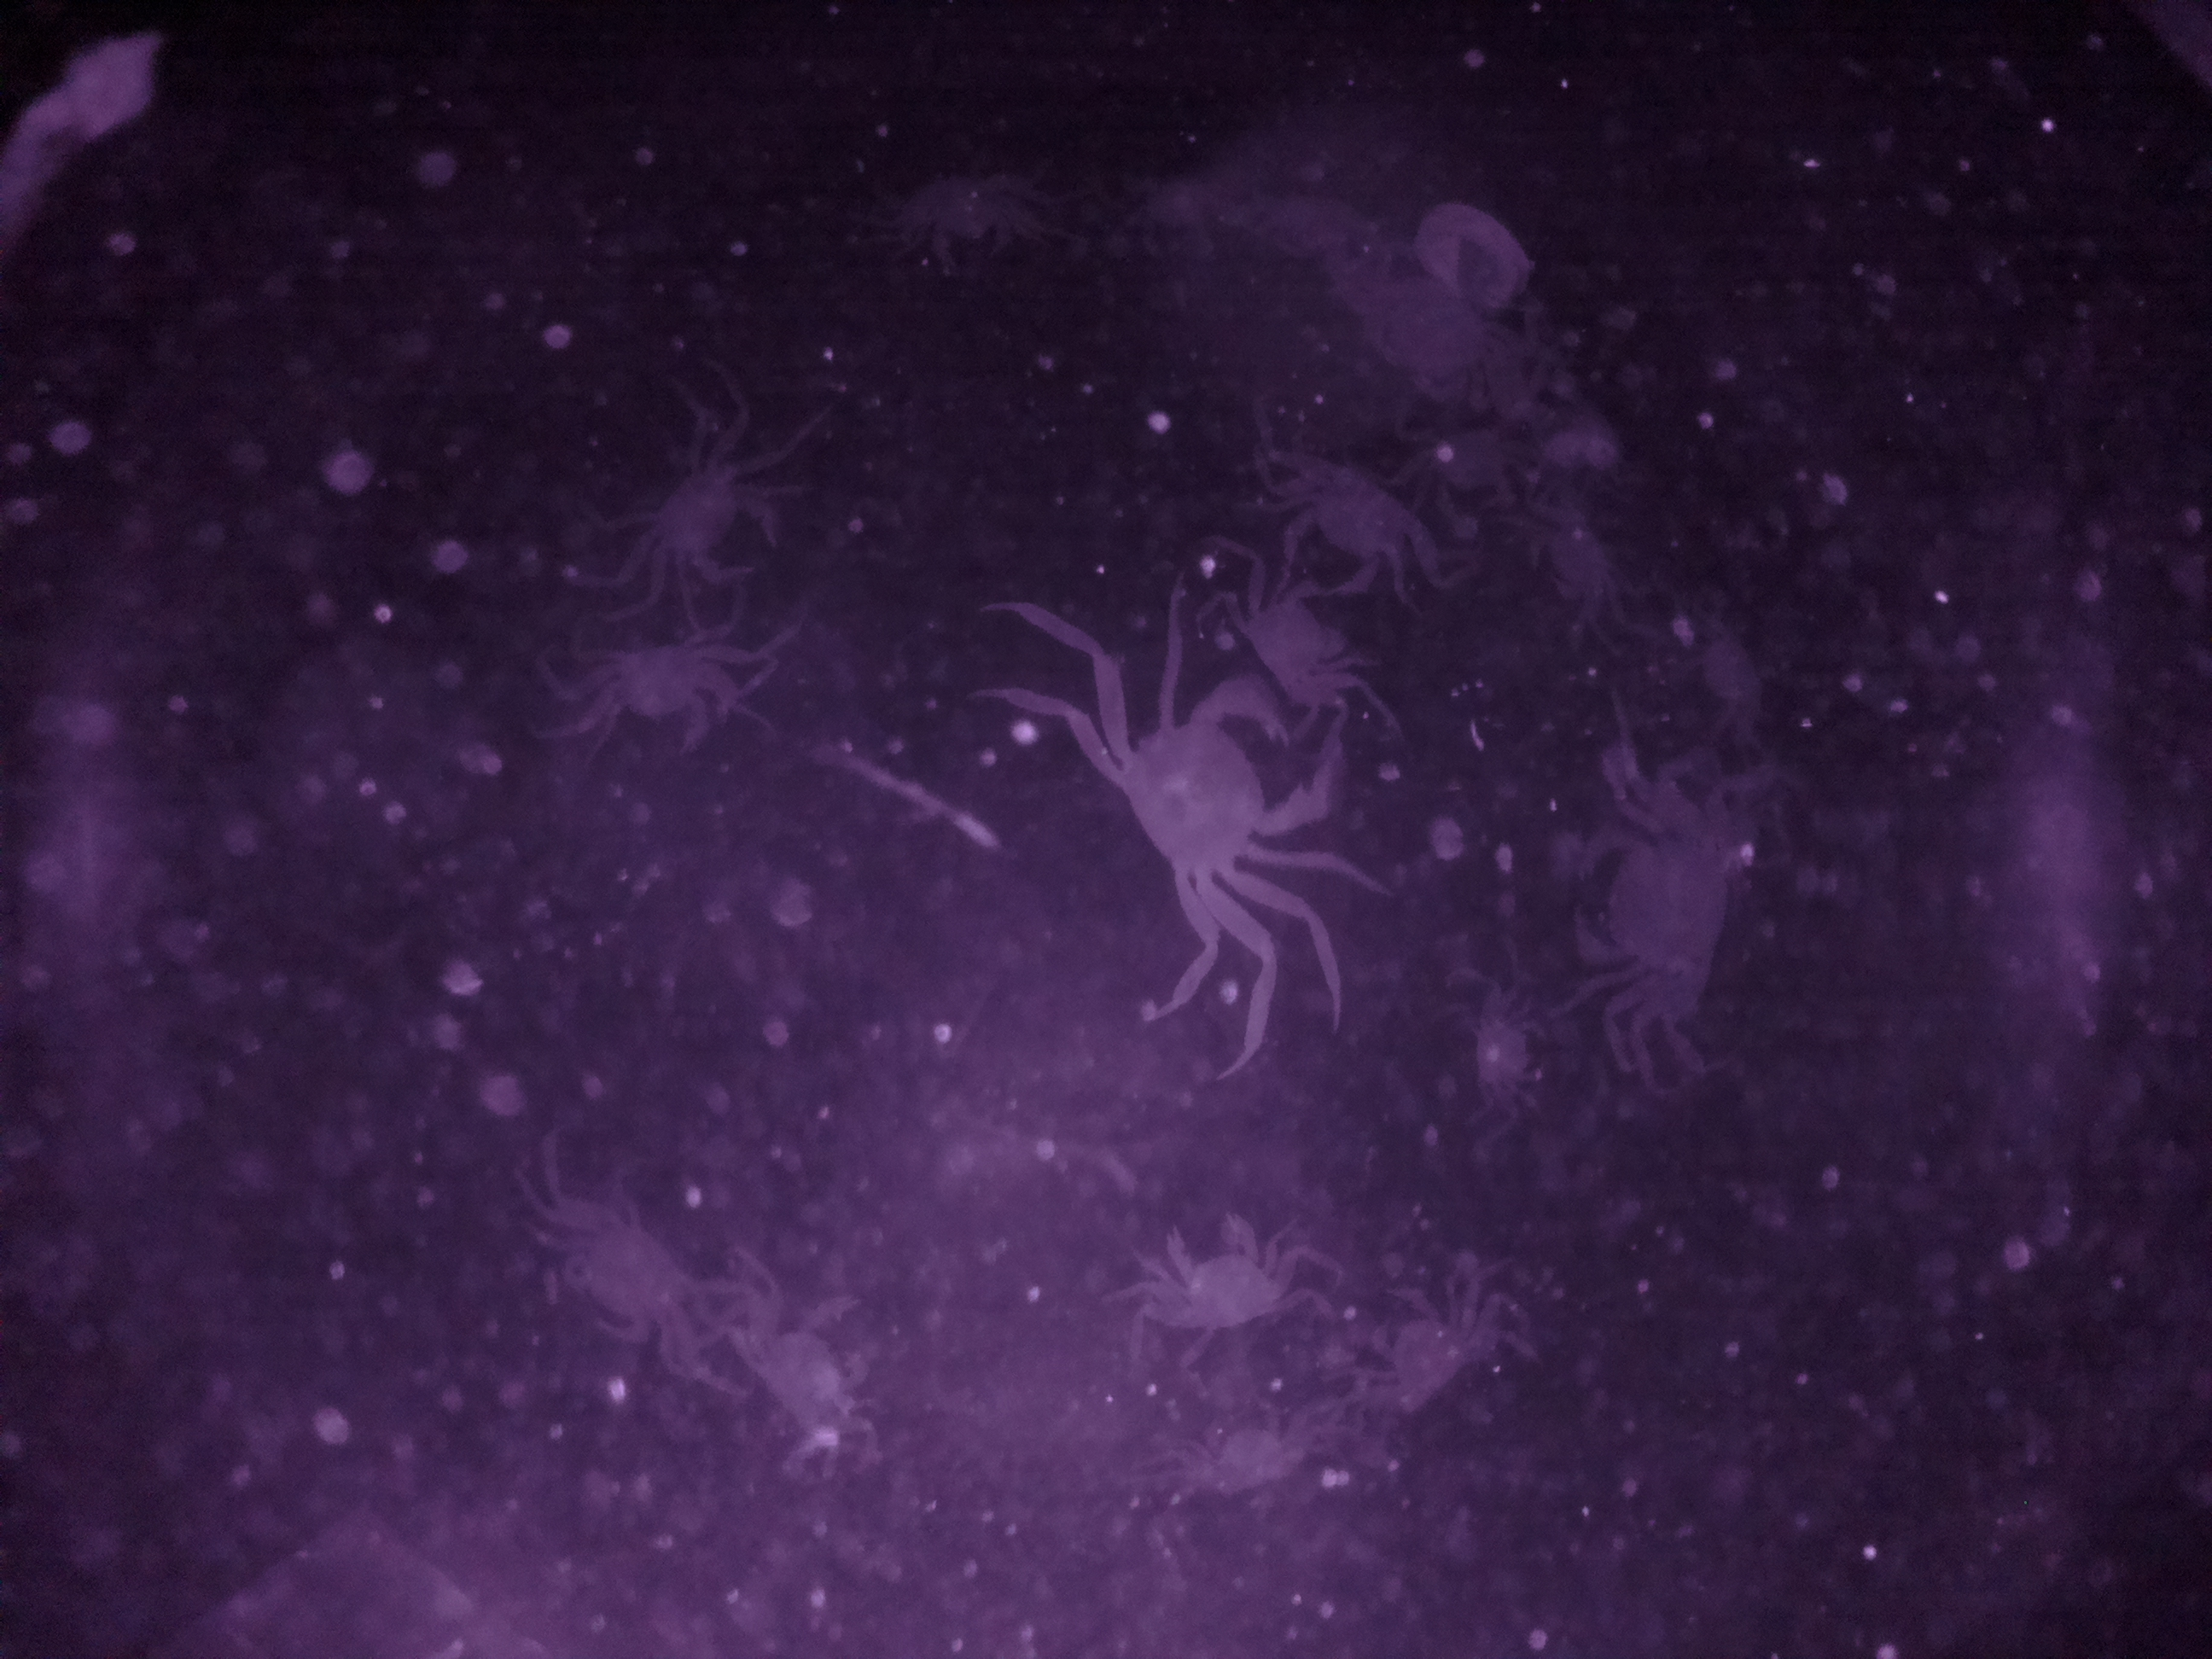Crab: (1061, 674, 1345, 943), (1554, 788, 1778, 1051), (1259, 441, 1461, 626), (536, 1182, 723, 1375), (606, 427, 801, 608), (554, 627, 759, 767), (1130, 1206, 1292, 1352)
